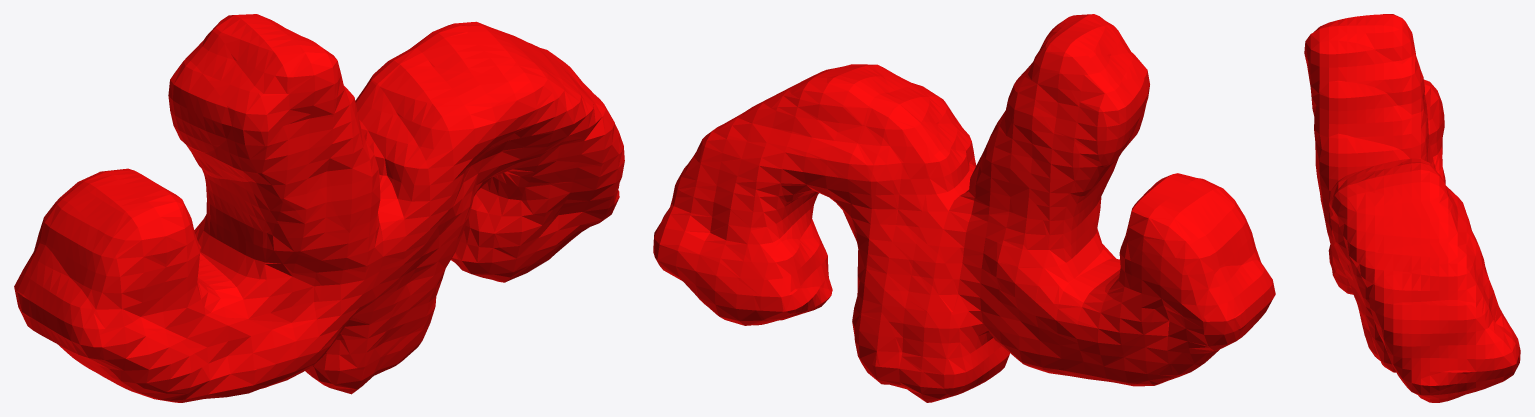
File: Microtubule_associated_protein_coarse.dae
3 renders of one model, left to right at view 1: azimuth 30°, elevation 25°; view 2: azimuth 150°, elevation 25°; view 3: azimuth 270°, elevation 25°, orthographic. The views are drawn at different scales.
Parts seen in each view (by area): view 1: Microtubule_associated_protein; view 2: Microtubule_associated_protein; view 3: Microtubule_associated_protein.
Boxes of the visible parts, left/top/right/bottom form: Microtubule_associated_protein: left=14, top=14, right=624, bottom=402; Microtubule_associated_protein: left=653, top=14, right=1275, bottom=402; Microtubule_associated_protein: left=1304, top=14, right=1520, bottom=402.
Size of the model in its own units: 128 by 82.21 by 52.05.
